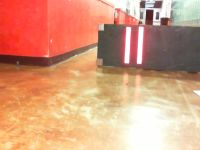switch: (136, 25, 145, 64), (124, 26, 132, 63)
